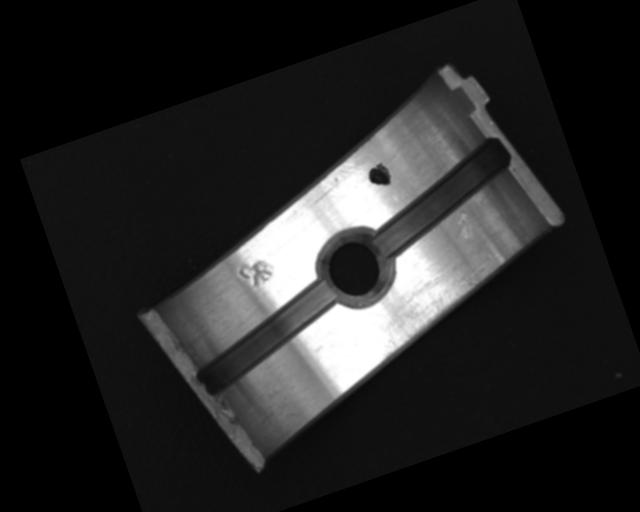blot: (364, 159, 394, 191)
bruise: (235, 254, 278, 292), (452, 209, 477, 243)
gap: (354, 133, 527, 258), (180, 276, 352, 398)
hole: (308, 219, 405, 316)
scratch: (358, 260, 501, 364)
